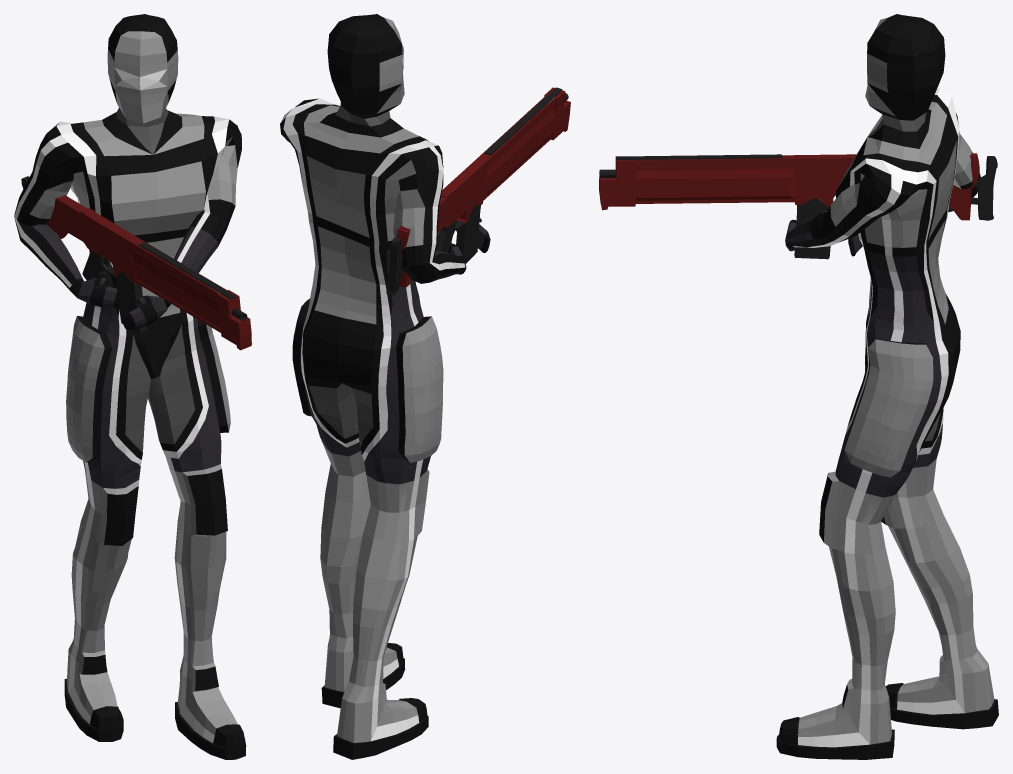
File: TKI3.obj
3 renders of one model, left to right at view 1: azimuth 30°, elevation 25°; view 2: azimuth 150°, elevation 25°; view 3: azimuth 270°, elevation 25°, orthographic.
Parts seen in each view (by area): view 1: metarig_object_metarig_mesh, Cube.001; view 2: metarig_object_metarig_mesh, Cube.001; view 3: metarig_object_metarig_mesh, Cube.001.
Boxes of the visible parts, left/top/right/bottom form: metarig_object_metarig_mesh: left=14, top=14, right=246, bottom=759; Cube.001: left=21, top=176, right=251, bottom=350; metarig_object_metarig_mesh: left=280, top=14, right=490, bottom=759; Cube.001: left=386, top=87, right=570, bottom=295; metarig_object_metarig_mesh: left=776, top=14, right=998, bottom=759; Cube.001: left=599, top=152, right=997, bottom=259.
Bounding box in the file's own units: 0.4798 × 1.73 × 0.8761.
2 materials, 2 textured.
